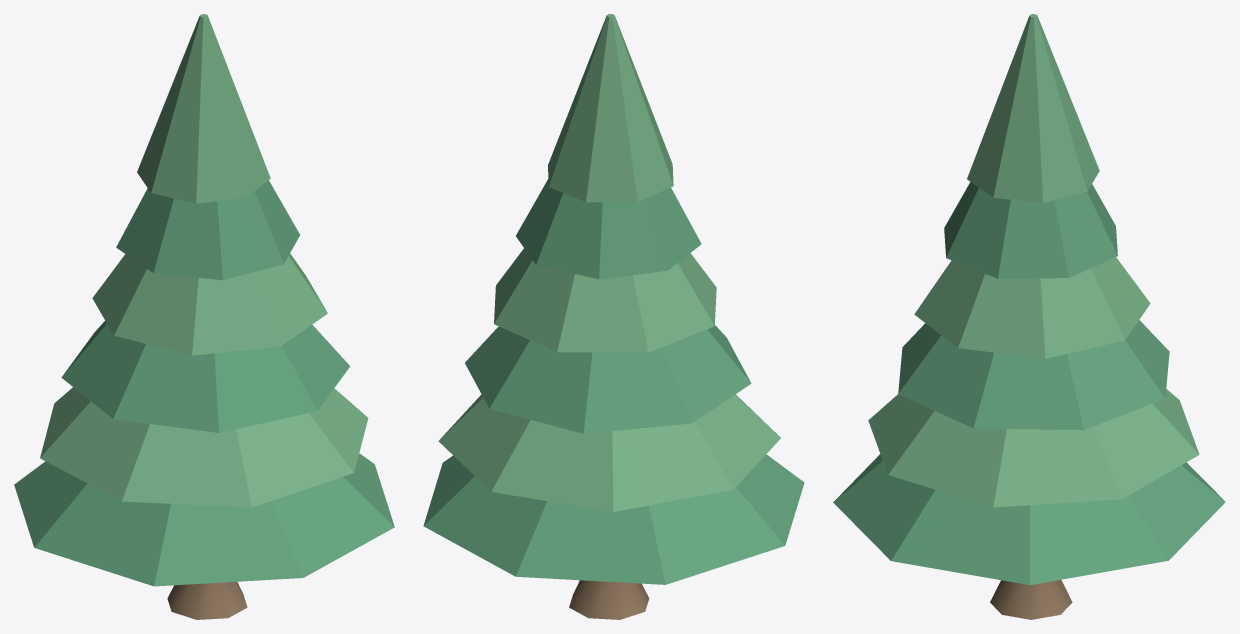
File: tree_conifer_1.fbx
3 views of the same model, side by side, from view 1: azimuth 30°, elevation 25°; view 2: azimuth 150°, elevation 25°; view 3: azimuth 270°, elevation 25° (orthographic).
Parts seen in each view (by area): view 1: tree_conifer_1; view 2: tree_conifer_1; view 3: tree_conifer_1.
Part boxes in pixels (box(x1,y1,x2,y2)): tree_conifer_1: box(14, 14, 394, 619); tree_conifer_1: box(423, 14, 804, 619); tree_conifer_1: box(833, 14, 1225, 619).
Size of the model in its own units: 3.8 by 6.25 by 3.8.
